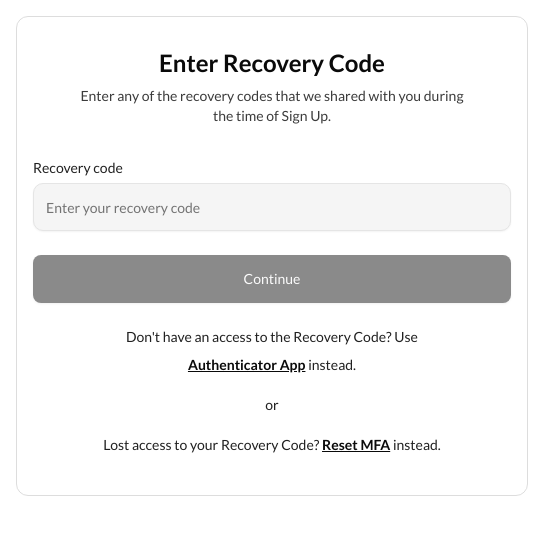
MfaRecoveryForm template › shows an inline error when the recovery code is rejected
The width and height of the screenshot is (545, 539).
Type "WRONGCODE" into the field.
click(272, 207); type("WRONGCODE")  # box x1=33 y1=183 x2=511 y2=231
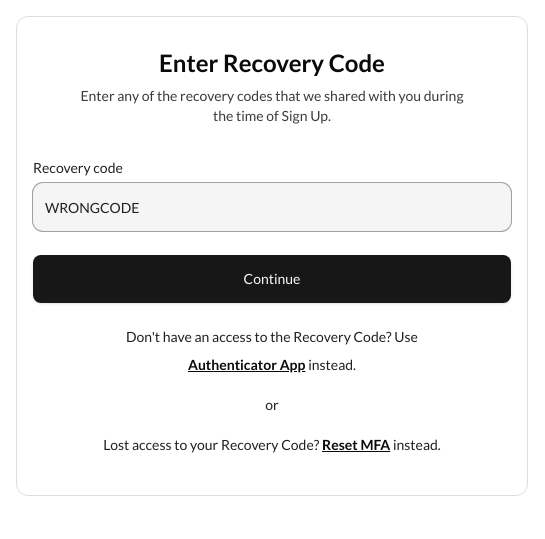
Click the button "Continue".
click(272, 279)  # box x1=33 y1=255 x2=511 y2=303
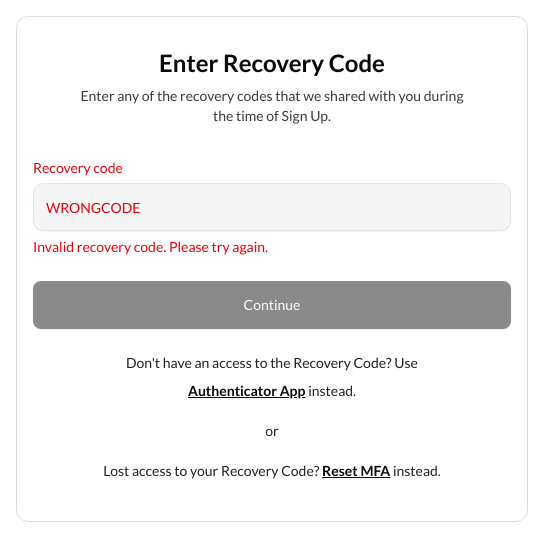
Now the text "Invalid recovery code. Please try again." is shown, box x1=33 y1=238 x2=268 y2=255
